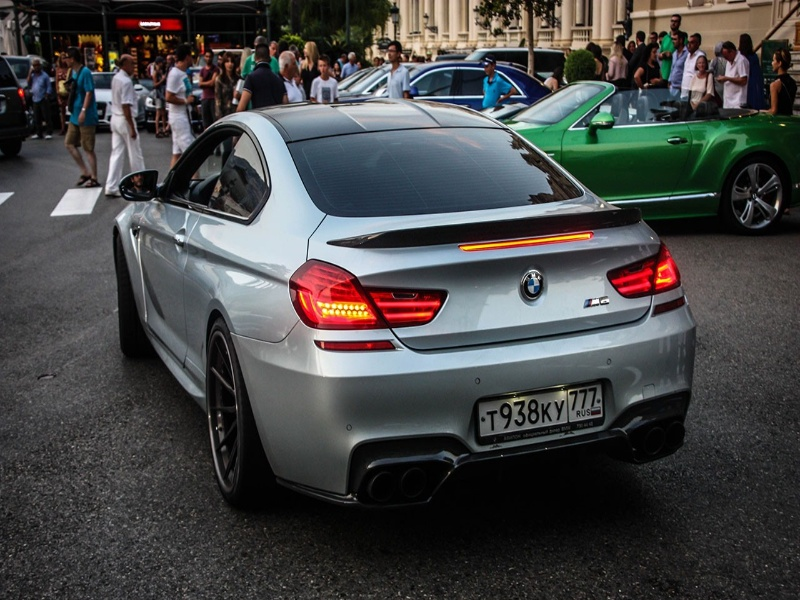car: (114, 98, 698, 505), (504, 79, 800, 232), (341, 61, 554, 115)
person: (105, 53, 147, 198), (63, 47, 101, 186), (236, 44, 289, 113), (165, 45, 194, 168), (716, 41, 750, 108), (26, 58, 54, 139), (764, 49, 797, 116), (659, 14, 688, 80), (480, 56, 516, 107), (198, 49, 218, 129), (277, 50, 306, 103), (215, 52, 237, 119), (309, 55, 339, 103), (387, 41, 411, 99), (682, 36, 705, 95), (667, 32, 688, 93), (690, 55, 714, 108), (633, 43, 660, 87), (152, 56, 166, 138), (606, 42, 628, 81), (341, 52, 358, 80)
plate: (478, 384, 603, 436)
